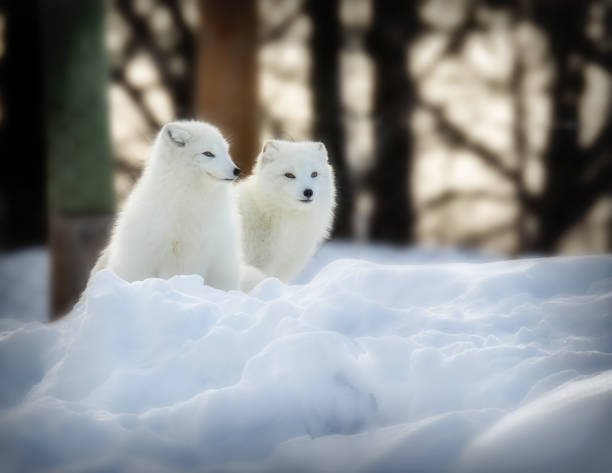arcticfox: (270, 151, 325, 217)
